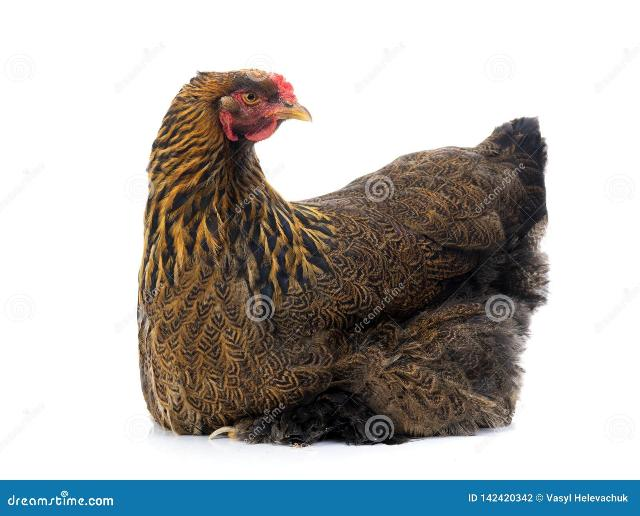Chicken: (136, 70, 550, 447)
